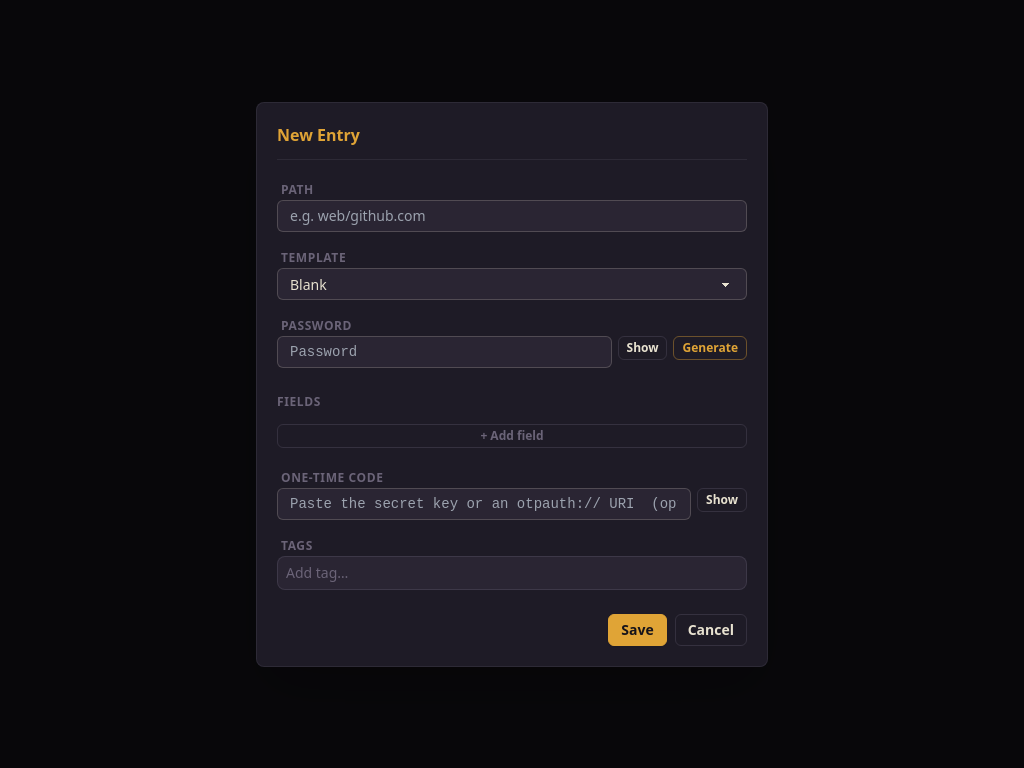
Scenario: Form (create) — generatePassword (backend command) › Generate button writes the backend-returned password into the field
Step 1. Click the button with test id "generate-button" → coordinates (710, 348), box x1=674 y1=336 x2=747 y2=360
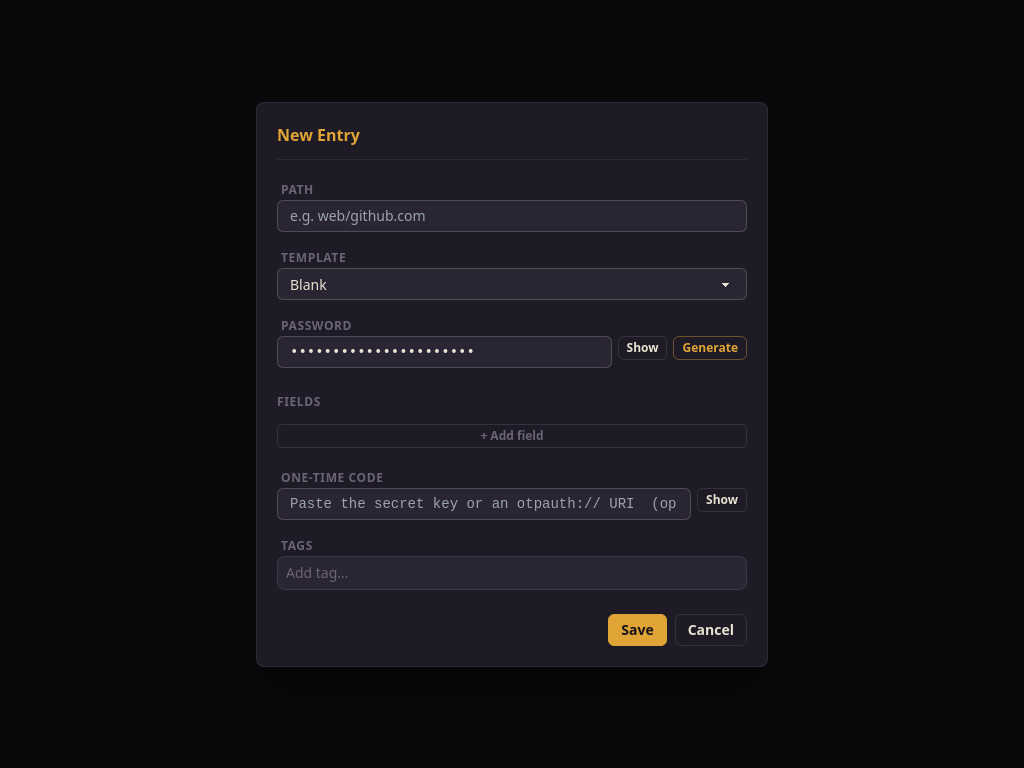
expect the password field with test id "password-input" holds "p4ssw0rd-from-backend!": met, box x1=277 y1=336 x2=612 y2=368
